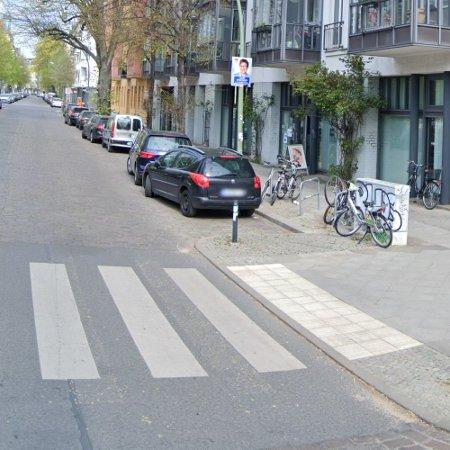crosswalks: (28, 262, 313, 380)
